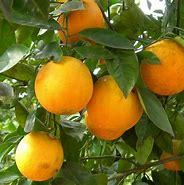orange: (73, 73, 157, 136), (29, 50, 96, 115), (0, 129, 72, 183), (43, 7, 115, 53), (140, 33, 184, 99)
